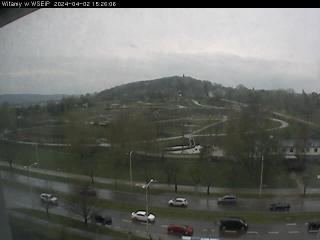car: (218, 216, 249, 230), (91, 208, 113, 226), (129, 210, 157, 224), (167, 222, 194, 236), (268, 199, 290, 211), (168, 196, 189, 208), (215, 194, 237, 205), (39, 192, 57, 204), (306, 217, 320, 229), (80, 188, 96, 196)
